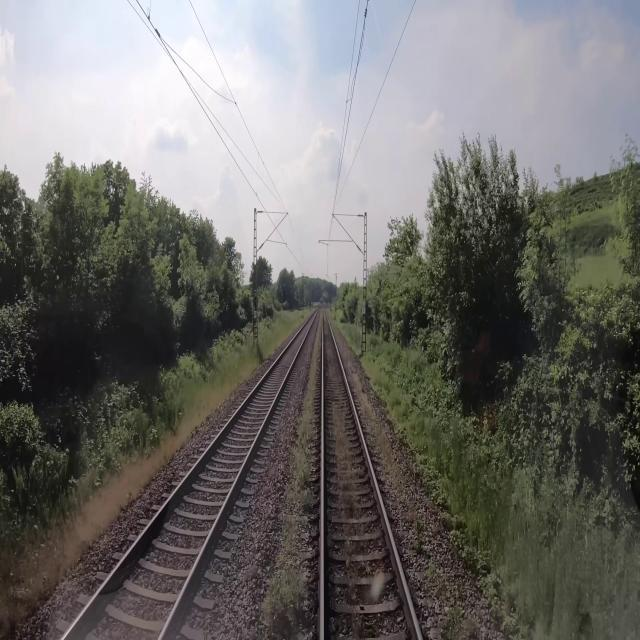Plant: (260, 310, 322, 637), (352, 371, 416, 520), (333, 404, 368, 579), (438, 605, 459, 639), (350, 611, 364, 637), (464, 615, 478, 639), (347, 581, 359, 605), (425, 563, 436, 582), (456, 581, 466, 601), (414, 538, 422, 552), (416, 518, 422, 532)
